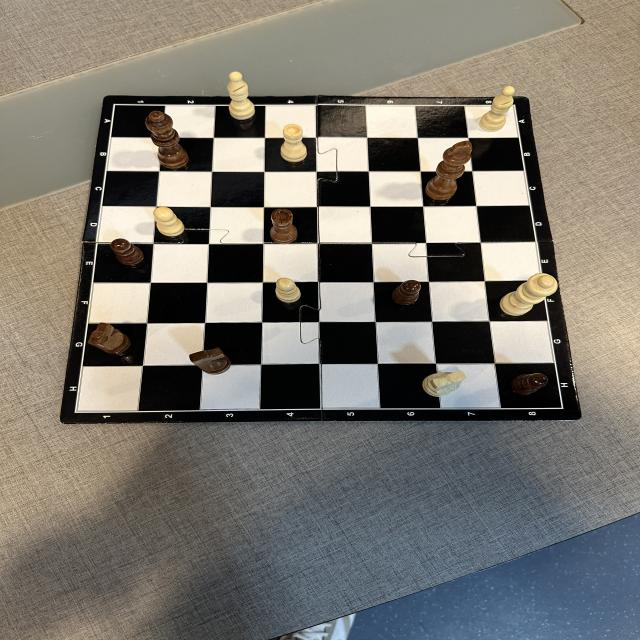Black-King: (425, 140, 473, 200)
Black-Knight: (89, 322, 131, 353), (189, 349, 231, 375)
Black-Pawn: (112, 238, 144, 266), (511, 372, 549, 394), (392, 279, 422, 305)
Black-Queen: (146, 110, 188, 169)
Black-Rook: (270, 209, 298, 242)
White-Bishop: (479, 85, 514, 131), (228, 72, 255, 119)
White-Knight: (422, 371, 467, 396)
White-Pawn: (154, 206, 185, 237), (275, 277, 302, 302)
White-Queen: (499, 274, 558, 316)
White-Rook: (282, 124, 308, 162)
